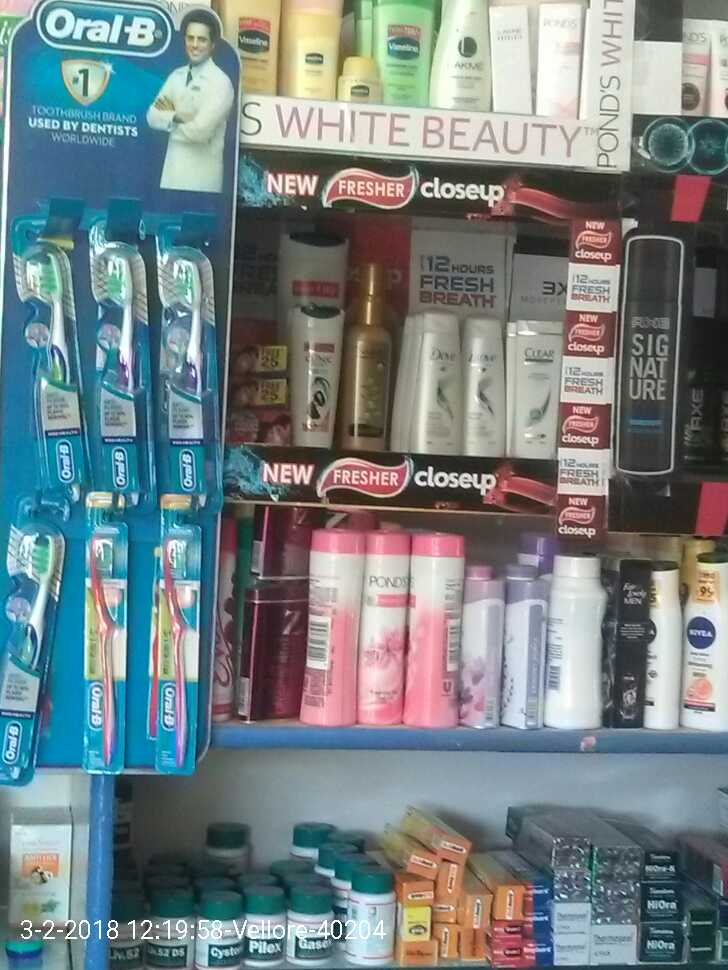oralb: (11, 240, 90, 489), (3, 515, 64, 786), (90, 243, 146, 489), (71, 529, 127, 761), (164, 247, 210, 493), (157, 541, 195, 764)
